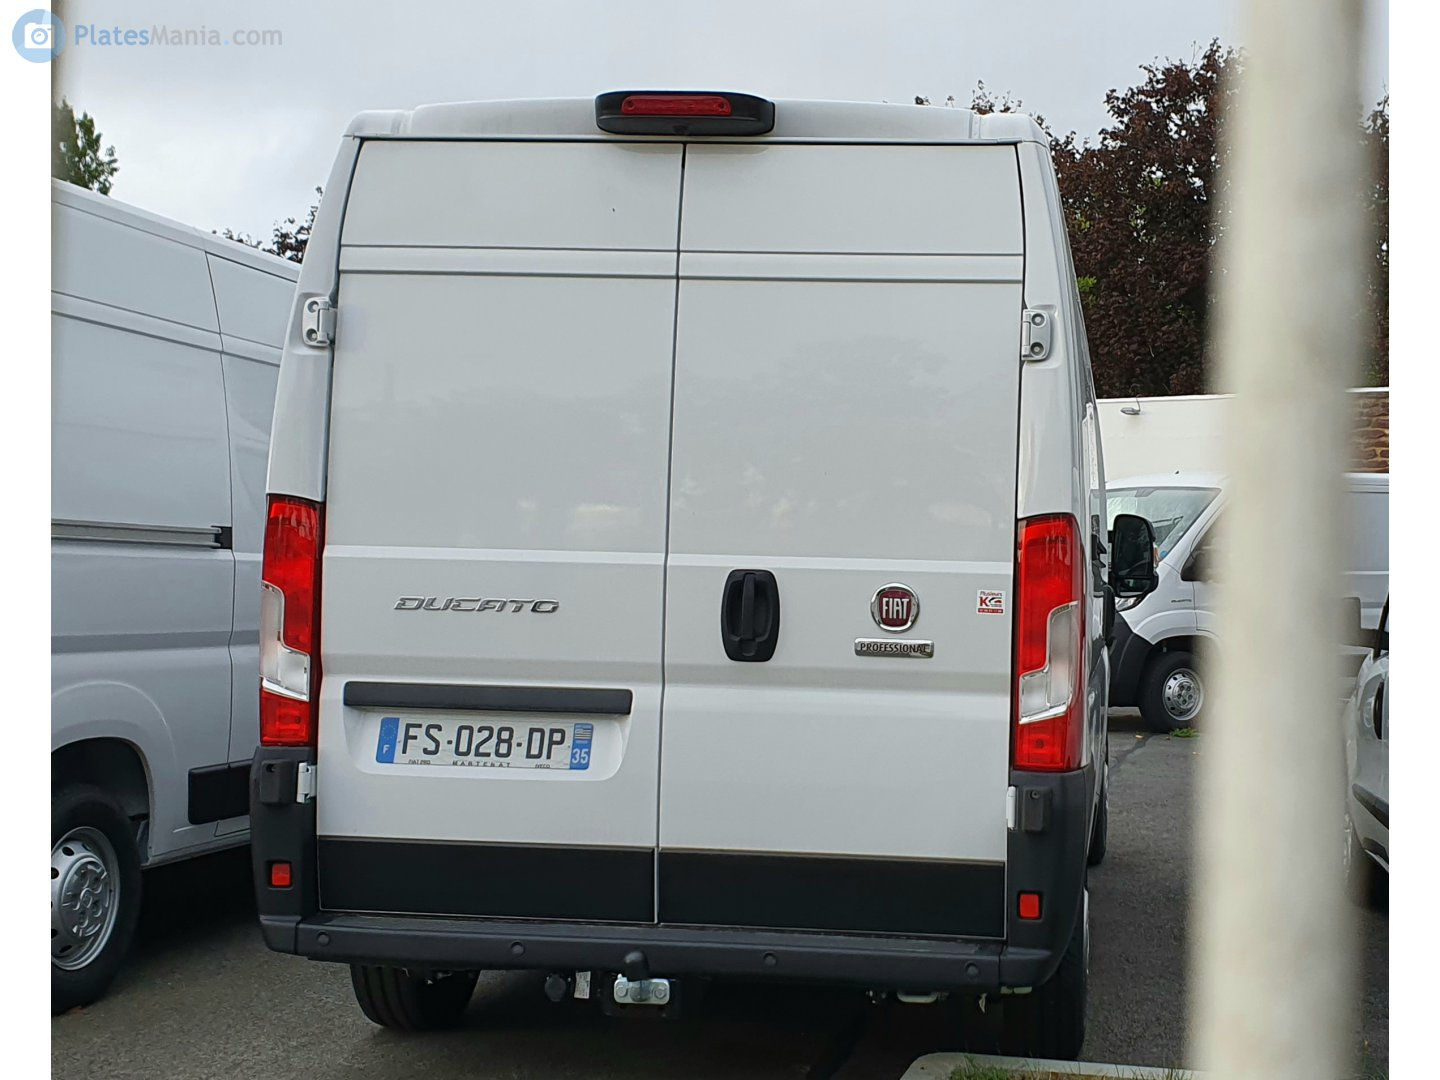licence plate: (372, 710, 595, 778)
